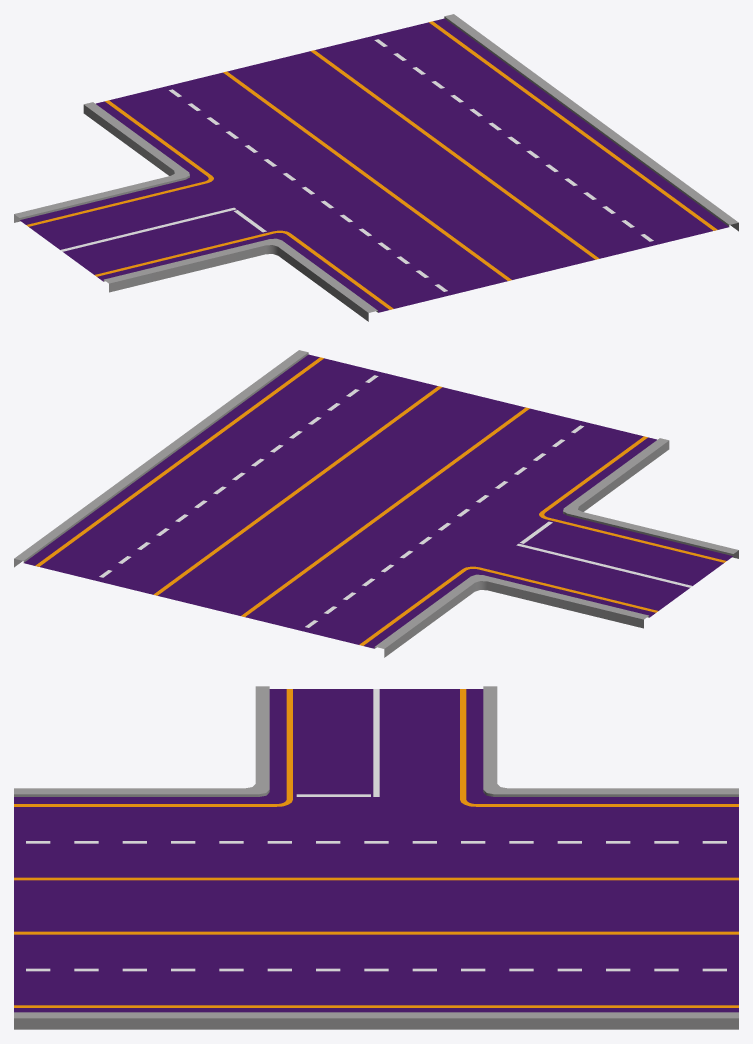
The model's file is Road_C_2L_1_4.fbx.
3 renders of one model, top to bottom at view 1: azimuth 30°, elevation 25°; view 2: azimuth 150°, elevation 25°; view 3: azimuth 270°, elevation 25°, orthographic. The views are drawn at different scales.
Parts seen in each view (by area): view 1: Road_C_2L_1_4; view 2: Road_C_2L_1_4; view 3: Road_C_2L_1_4.
Boxes of the visible parts, x1,y1,x2,y2 form: Road_C_2L_1_4: [14, 14, 738, 321]; Road_C_2L_1_4: [14, 350, 738, 657]; Road_C_2L_1_4: [14, 686, 738, 1029].
Size of the model in its own units: 2600 by 41.48 by 2400.
